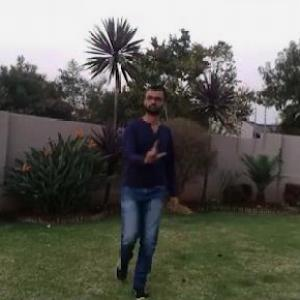land_hand: (134, 128, 166, 167)
